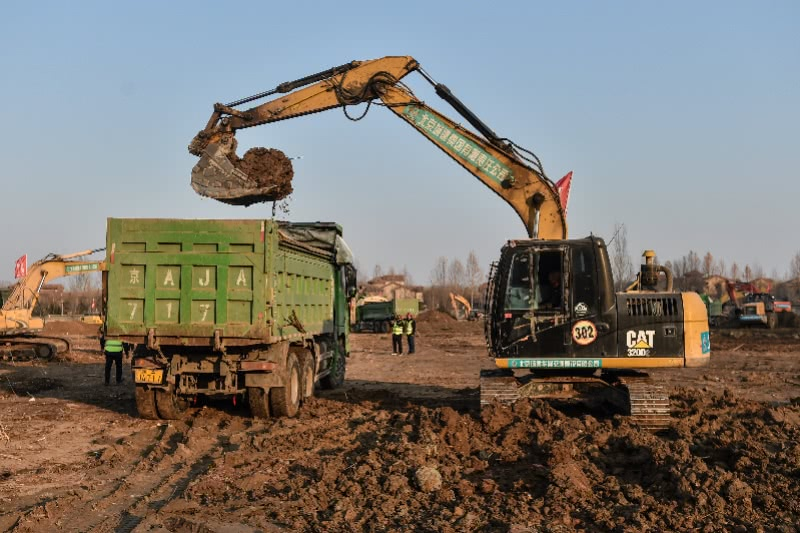excavator: (187, 53, 712, 433), (1, 243, 103, 379), (445, 288, 482, 323)
